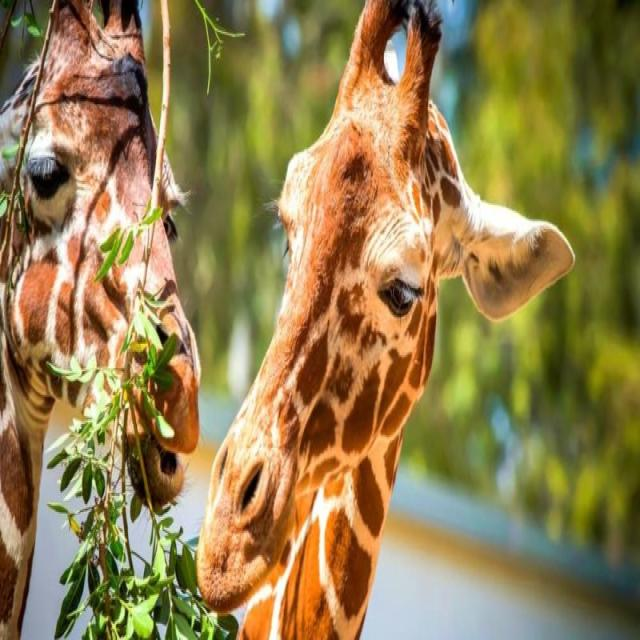Herbivorous: (197, 0, 576, 640), (0, 0, 200, 640)
